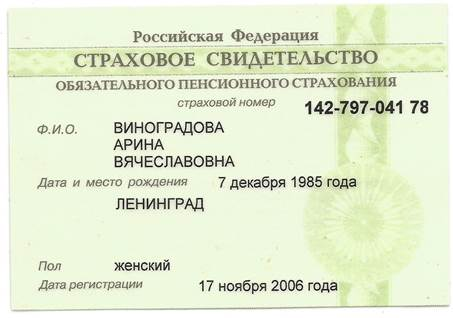text: (303, 96, 432, 121), (194, 274, 339, 295), (215, 172, 359, 192), (111, 115, 226, 138), (104, 193, 207, 214), (111, 154, 240, 170), (106, 256, 174, 274), (102, 136, 167, 153)
